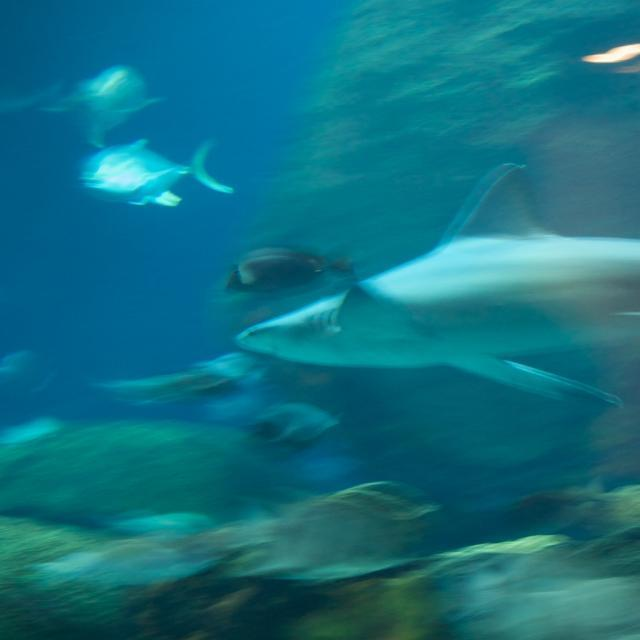Shark: (233, 167, 638, 412)
